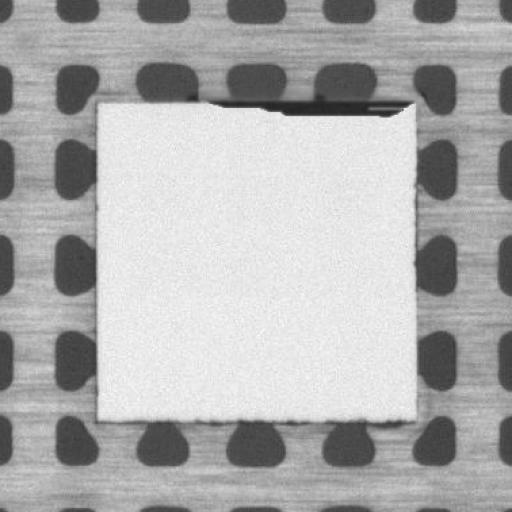DIE_BROKEN: (202, 96, 414, 116)
